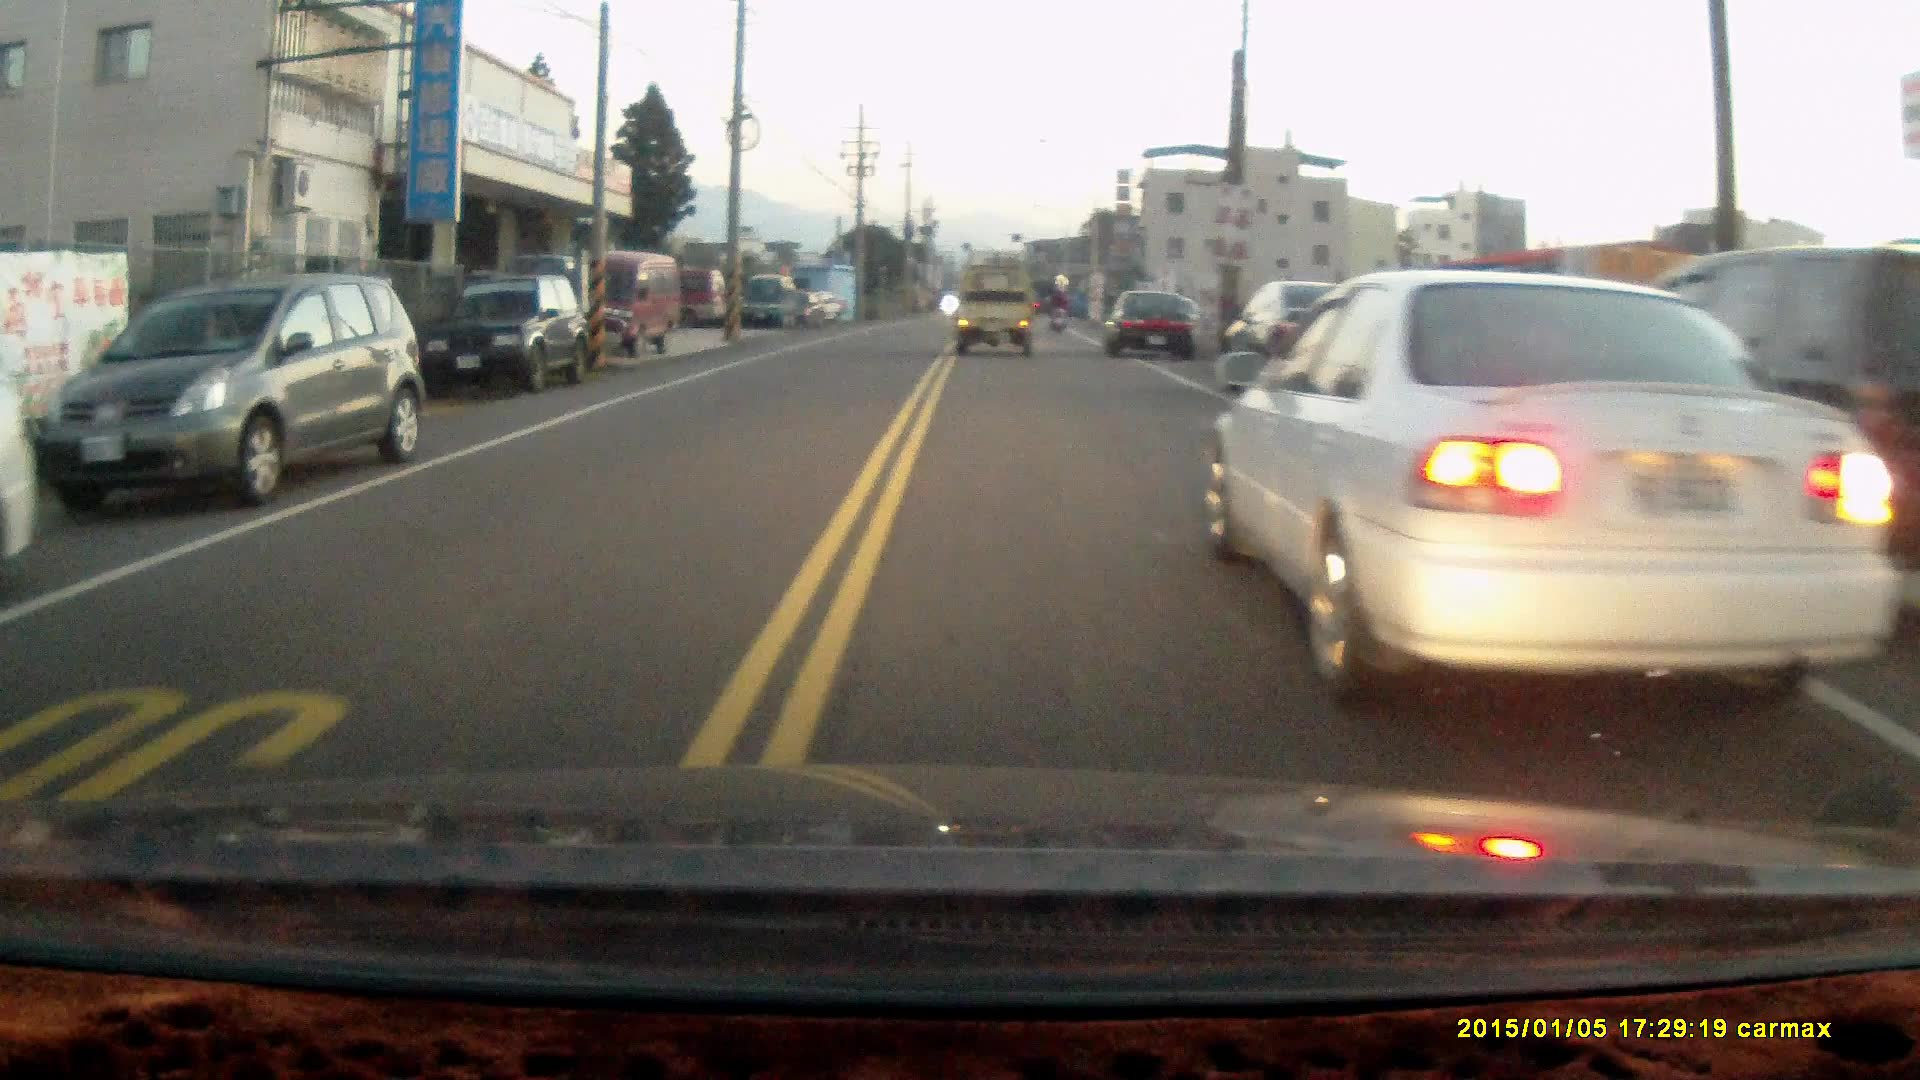rider: (1044, 285, 1071, 333)
vehicle: (1193, 268, 1905, 723), (1491, 249, 1920, 608), (35, 271, 418, 506), (436, 271, 591, 396), (1225, 278, 1390, 393), (564, 253, 686, 356), (1, 306, 40, 577), (1100, 291, 1199, 363), (953, 271, 1035, 358), (739, 274, 801, 331)
